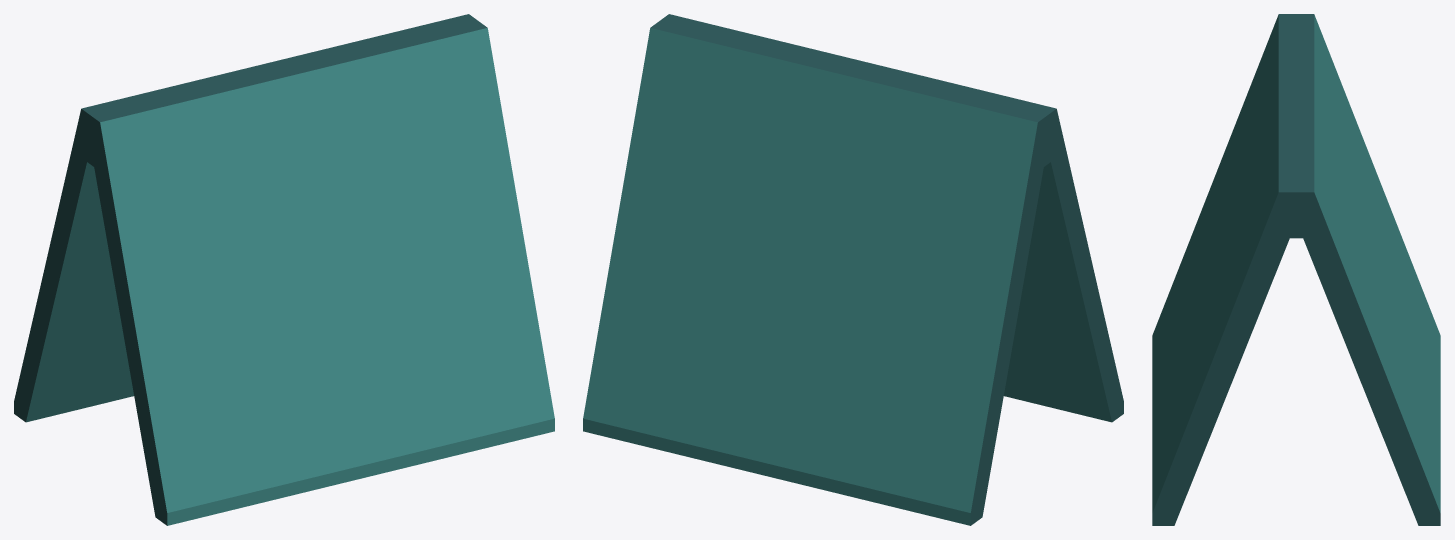
3 renders of one model, left to right at view 1: azimuth 30°, elevation 25°; view 2: azimuth 150°, elevation 25°; view 3: azimuth 270°, elevation 25°, orthographic. The views are drawn at different scales.
Parts seen in each view (by area): view 1: ContinuousFoldedDisplayPanelsRidgeAndFeet; view 2: ContinuousFoldedDisplayPanelsRidgeAndFeet; view 3: ContinuousFoldedDisplayPanelsRidgeAndFeet.
Boxes of the visible parts, box(x1,y1,x2,y2) form: ContinuousFoldedDisplayPanelsRidgeAndFeet: box(14, 14, 554, 525); ContinuousFoldedDisplayPanelsRidgeAndFeet: box(583, 14, 1123, 525); ContinuousFoldedDisplayPanelsRidgeAndFeet: box(1152, 14, 1440, 525).
Size of the model in its own units: 0.19 by 0.166 by 0.13.
